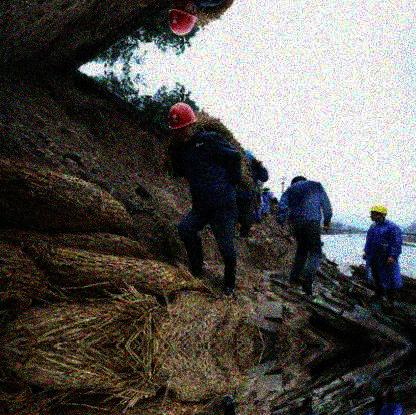helmet: (166, 103, 199, 146), (168, 1, 198, 38), (369, 204, 387, 224), (263, 187, 268, 193)
